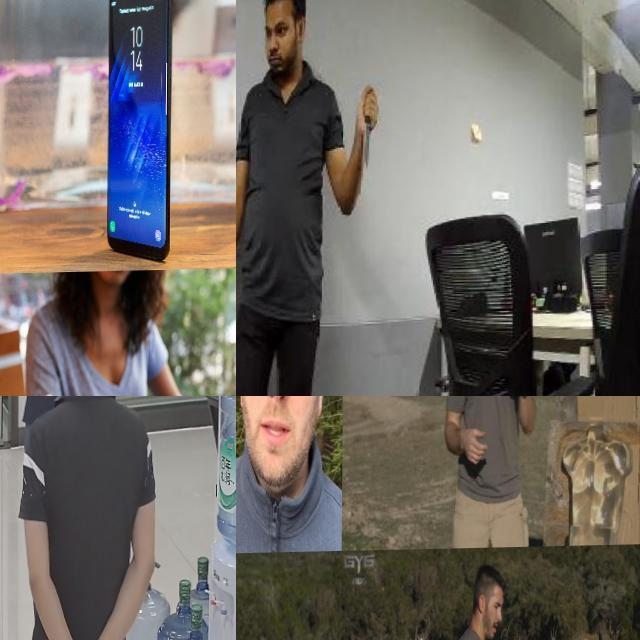-: (236, 396, 298, 498), (358, 116, 378, 180), (513, 396, 529, 441)
